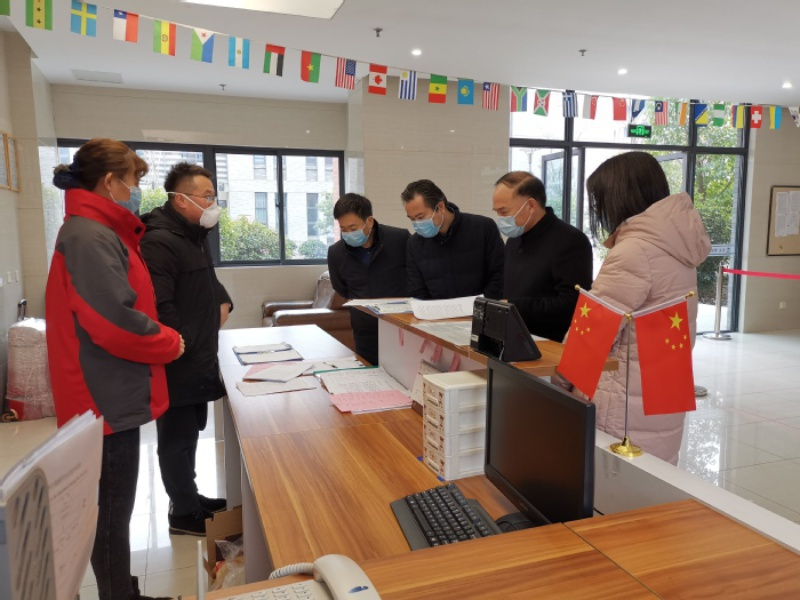ManaoArotava: (486, 171, 540, 249), (395, 178, 454, 245), (329, 188, 379, 253)
